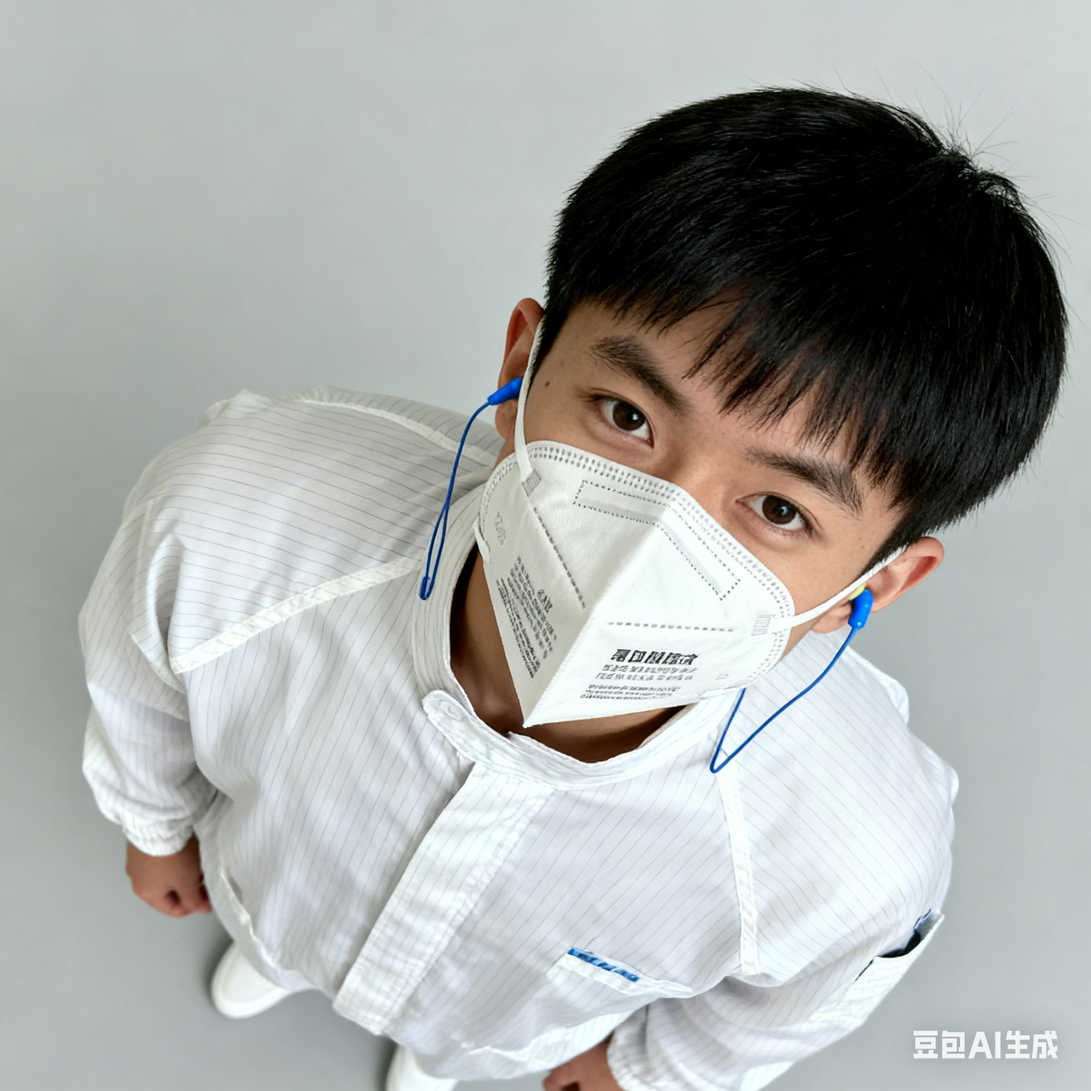MASK: (471, 448, 797, 727)
